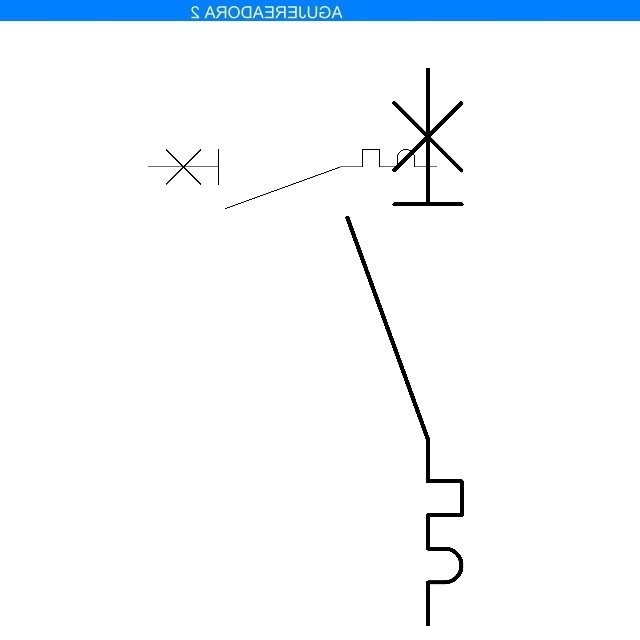interruptor_termomagnetico: (333, 55, 476, 639), (141, 142, 444, 216)
